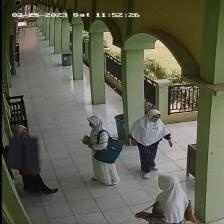Cadar_Niqab: (7, 121, 39, 167)
